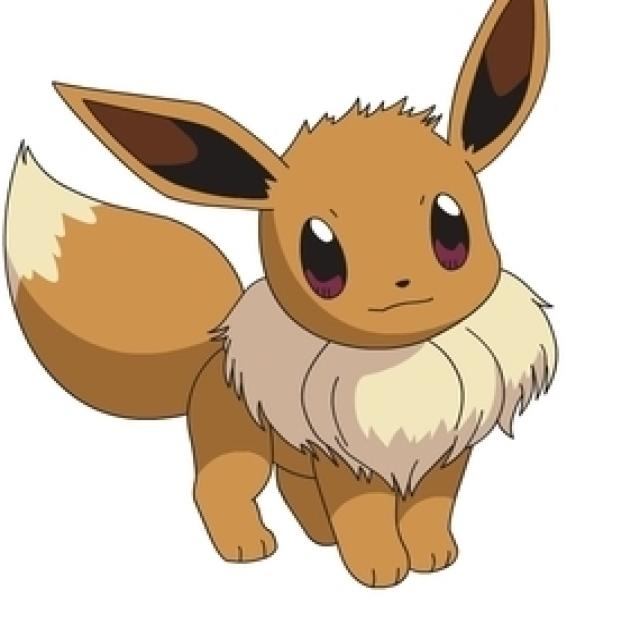Eevee: (164, 98, 514, 581)
